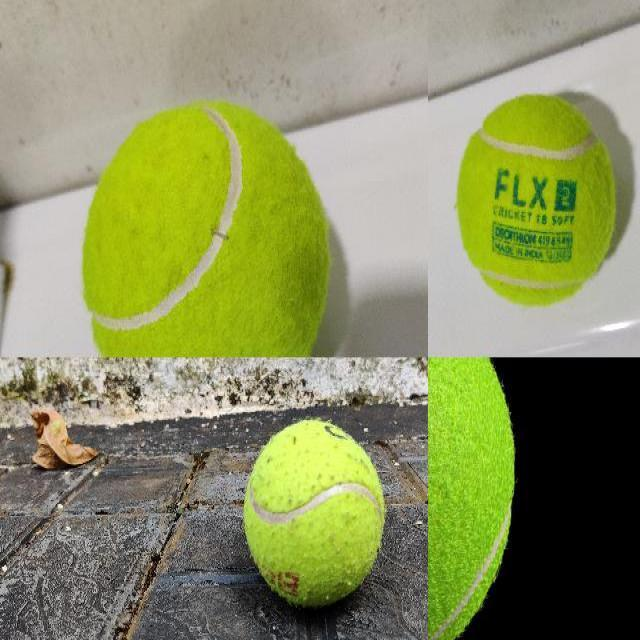tennis-ball: (79, 97, 331, 355), (454, 95, 617, 309), (242, 418, 387, 608), (428, 357, 518, 639)
